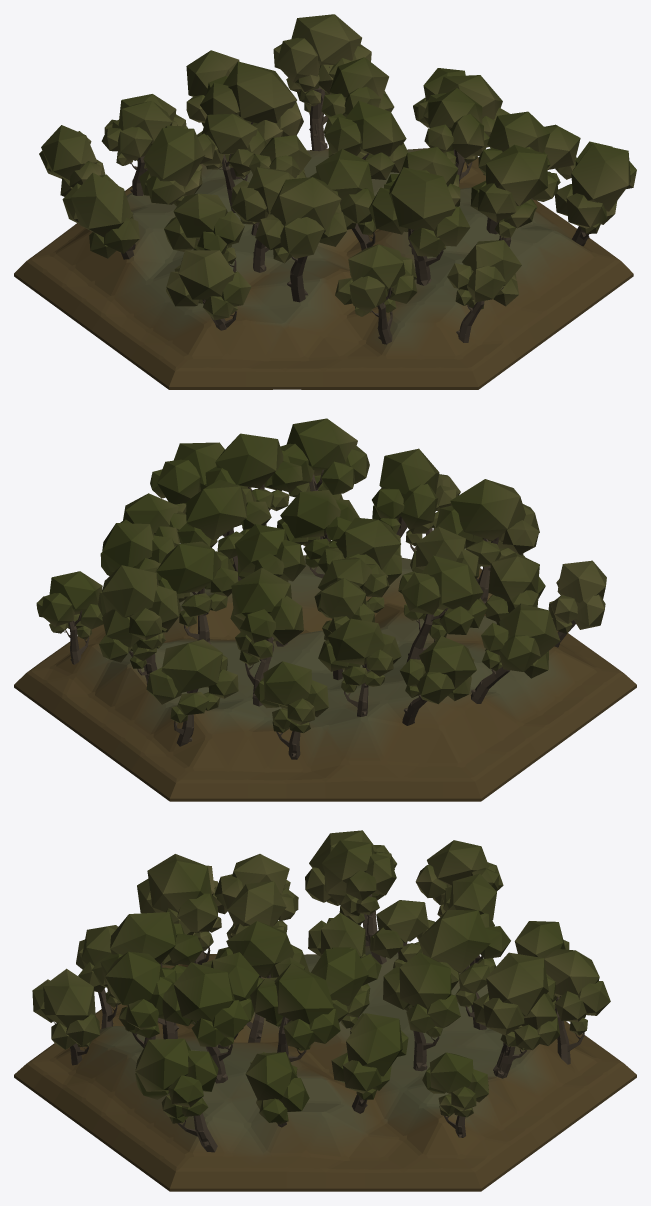
Rendered from tropicalSeasonalForest.glb.
3 renders of one model, top to bottom at view 1: azimuth 30°, elevation 25°; view 2: azimuth 150°, elevation 25°; view 3: azimuth 270°, elevation 25°, orthographic.
Parts seen in each view (by area): view 1: tropicalseasonalforest; view 2: tropicalseasonalforest; view 3: tropicalseasonalforest.
Part boxes in pixels (x1=…): tropicalseasonalforest: x1=14, y1=14, x2=636, y2=389; tropicalseasonalforest: x1=14, y1=418, x2=636, y2=801; tropicalseasonalforest: x1=14, y1=830, x2=636, y2=1191.
Size of the model in its own units: 1.78 by 0.6203 by 2.
